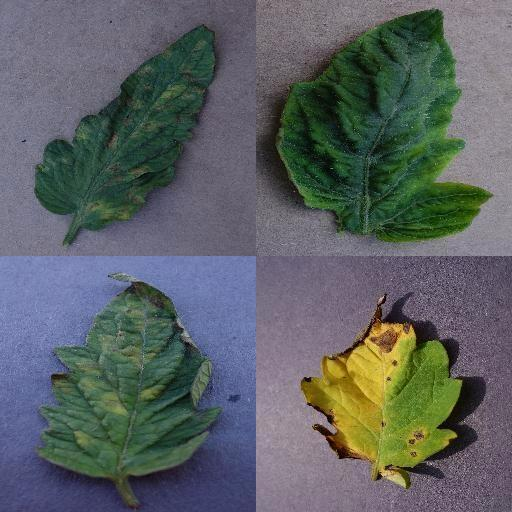Leaf Mold: (38, 269, 220, 479), (36, 24, 217, 230)
Septoria: (301, 293, 465, 489)
Yellow Leaf Curl Virus: (277, 5, 496, 239)
